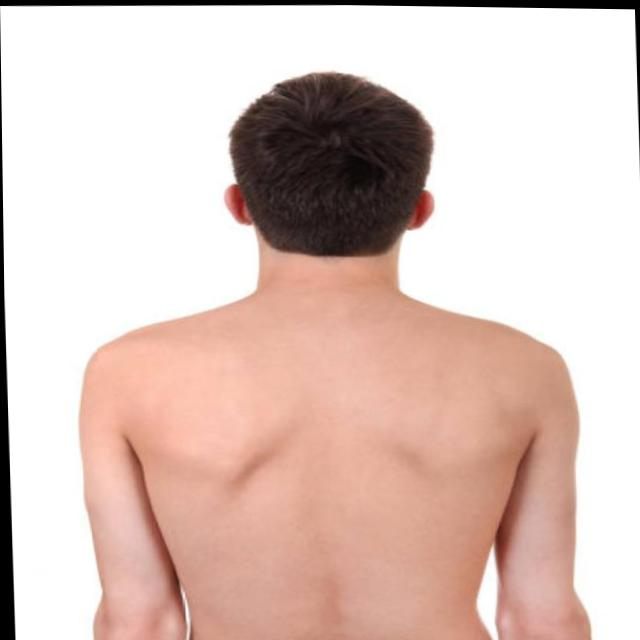no helmet: (213, 61, 454, 271)
